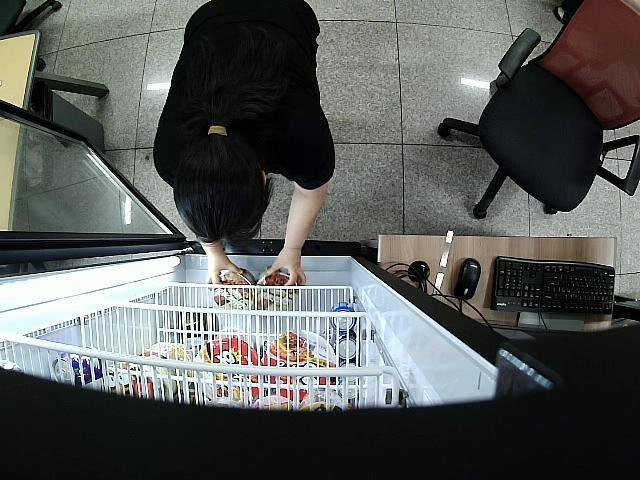03_chapagetti_L: (256, 268, 298, 310), (212, 272, 253, 310)
